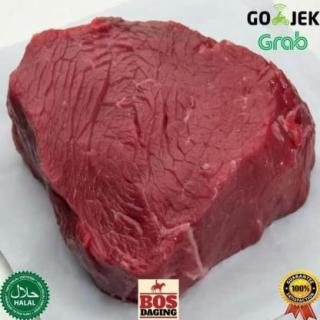Daging Sapi: (9, 19, 318, 305)
